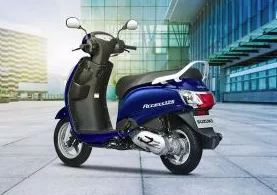bike: (52, 15, 222, 177)
